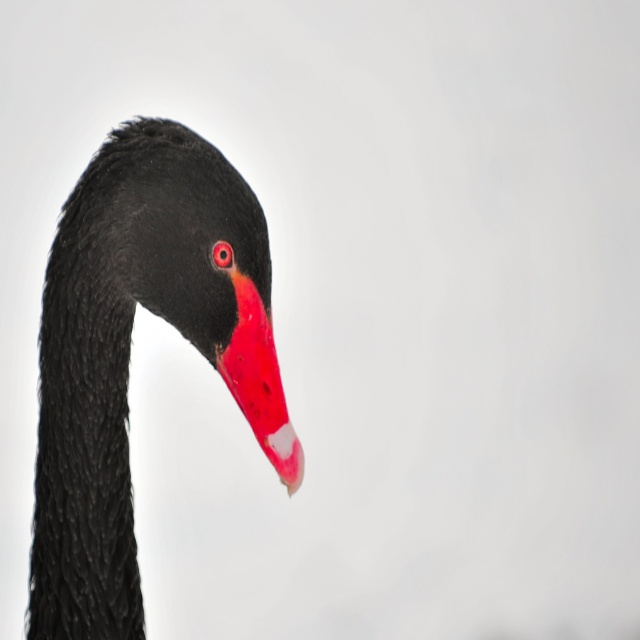Goose: (3, 136, 356, 630)
